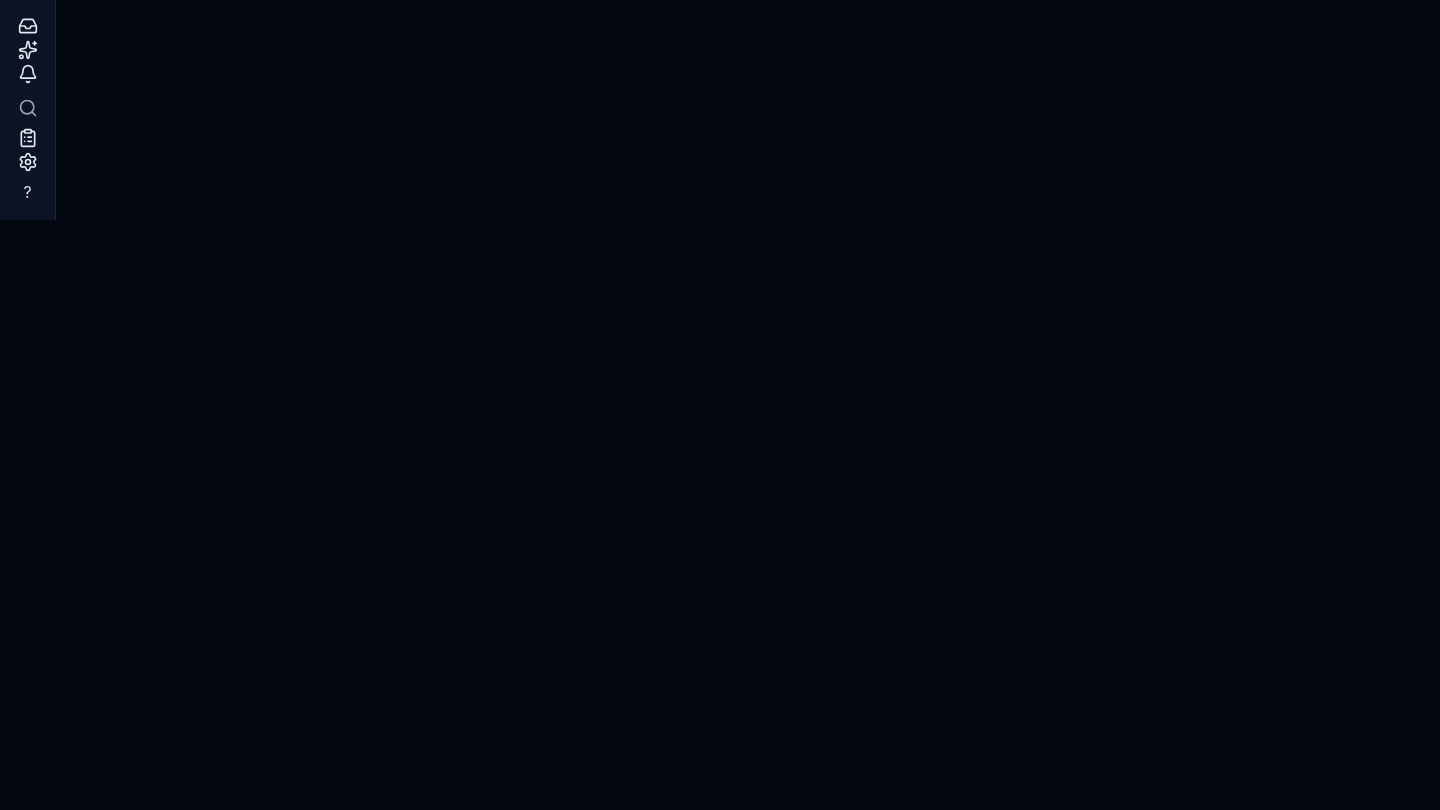
SideRail — keyboard › asks whether to keep the account before signing out
Step 1. Click the button named "User menu" → (28, 192), box [23,180,32,204]
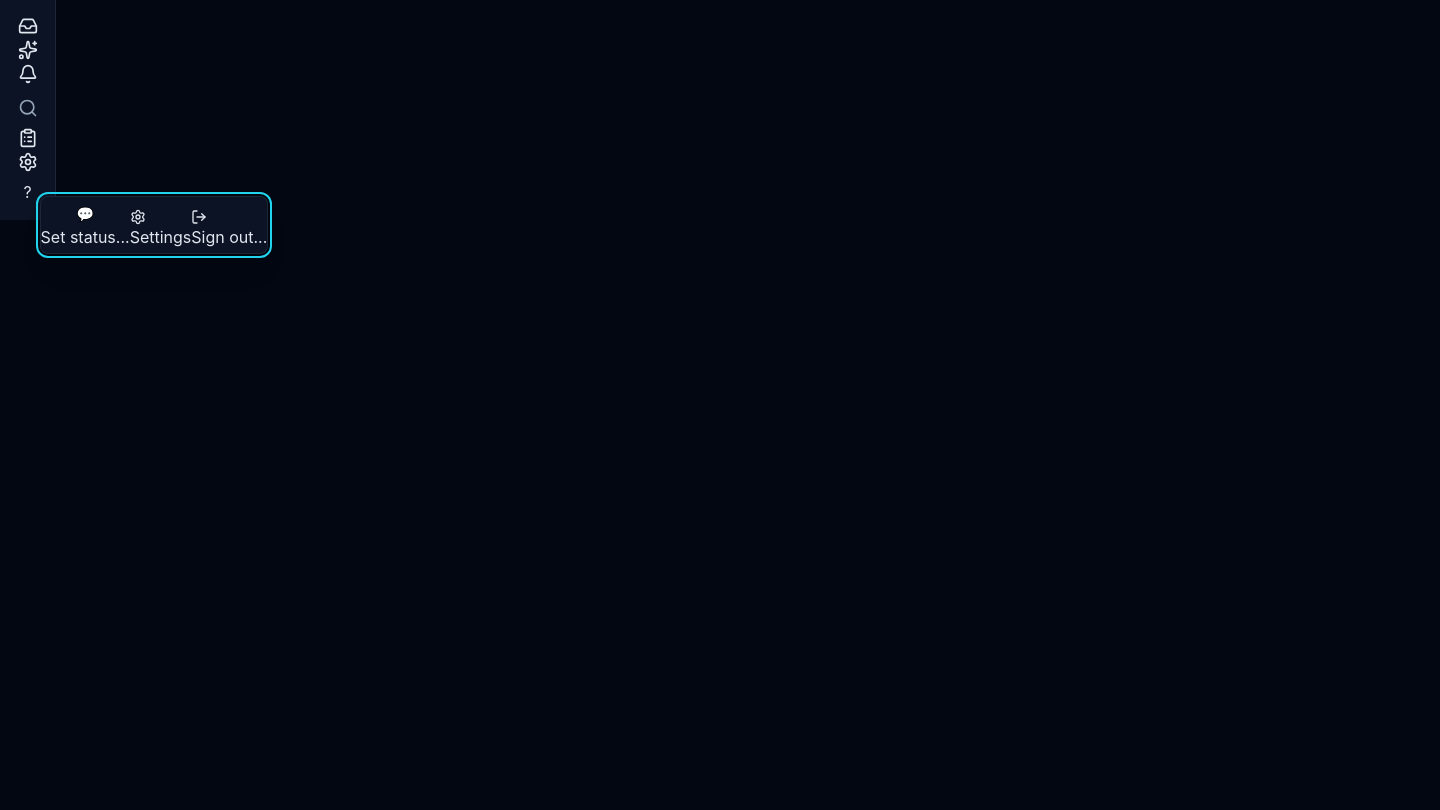
Step 2. Click the menu item "Sign out..." → (229, 229), box [191,209,267,249]
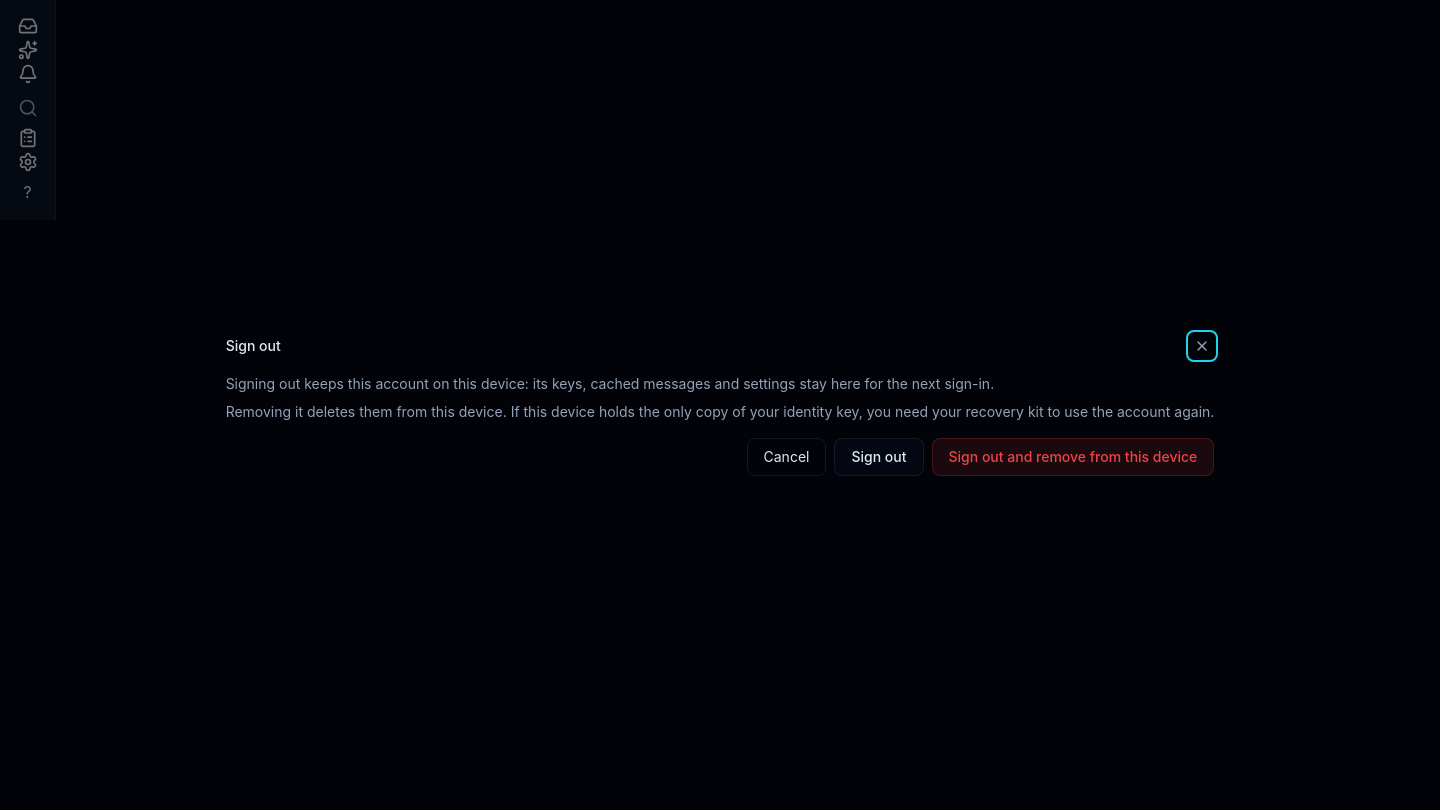
Expected: the menu is gone
Expected: the dialog "Sign out" is shown, [226,334,1214,476]
Expected: the button "Sign out and remove from this device" is shown, [932,438,1214,476]
